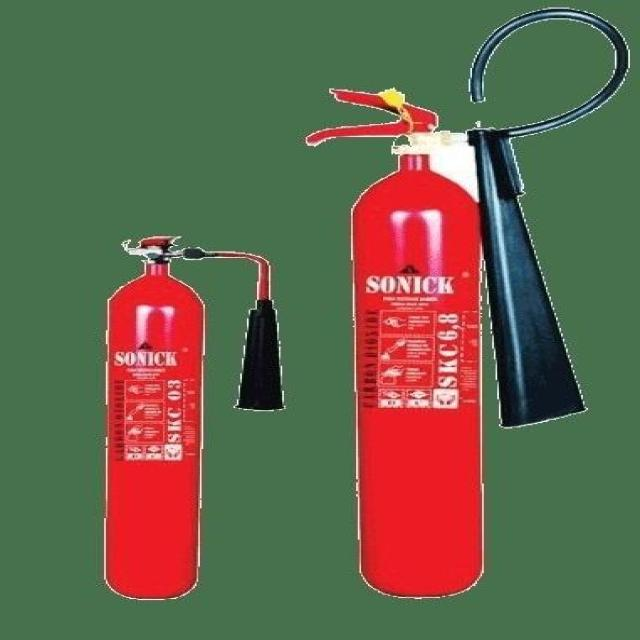fire_extinguisher: (296, 4, 638, 604), (88, 228, 292, 602)
